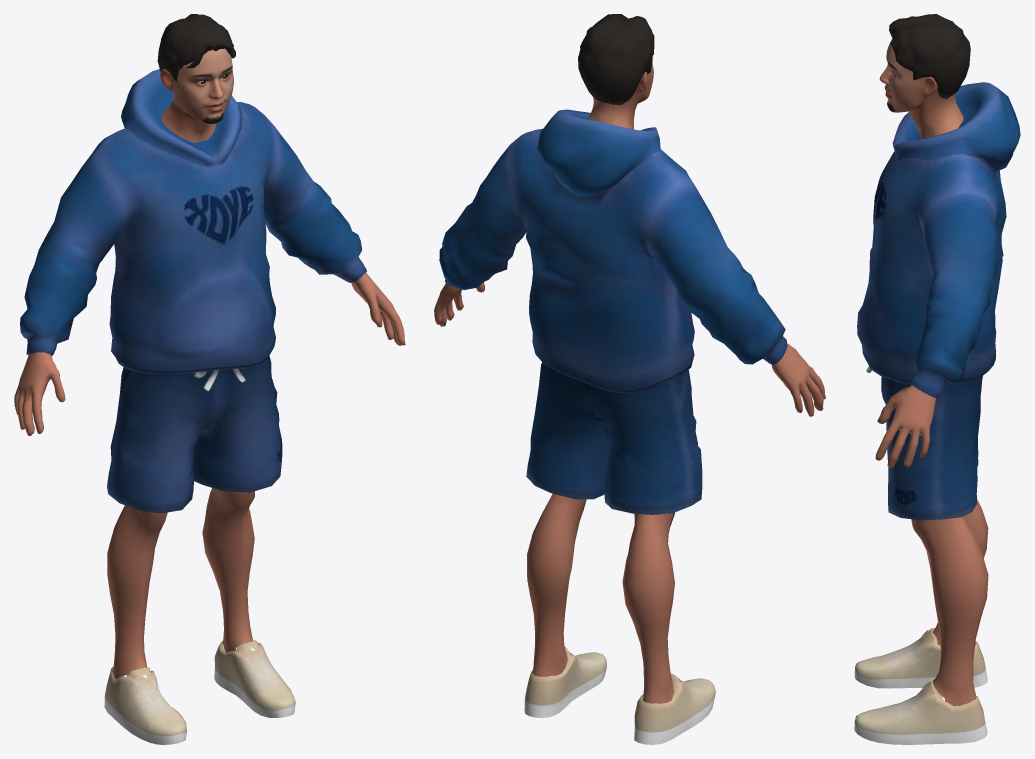
File: joseluislibrito.glb
3 views of the same model, side by side, from view 1: azimuth 30°, elevation 25°; view 2: azimuth 150°, elevation 25°; view 3: azimuth 270°, elevation 25° (orthographic).
Parts seen in each view (by area): view 1: Wolf3D_Outfit_Top, Wolf3D_Outfit_Bottom, Wolf3D_Body, Wolf3D_Outfit_Footwear, Wolf3D_Head, Wolf3D_Hair; view 2: Wolf3D_Outfit_Top, Wolf3D_Outfit_Bottom, Wolf3D_Body, Wolf3D_Outfit_Footwear, Wolf3D_Hair, Wolf3D_Head; view 3: Wolf3D_Outfit_Top, Wolf3D_Body, Wolf3D_Outfit_Bottom, Wolf3D_Outfit_Footwear, Wolf3D_Hair, Wolf3D_Head.
Part boxes in pixels (x1,y1,x2,y2): Wolf3D_Outfit_Top: (20, 69, 366, 373); Wolf3D_Outfit_Bottom: (107, 356, 282, 513); Wolf3D_Body: (14, 273, 405, 679); Wolf3D_Outfit_Footwear: (104, 640, 295, 744); Wolf3D_Head: (160, 48, 233, 142); Wolf3D_Hair: (157, 14, 235, 81); Wolf3D_Outfit_Top: (439, 109, 787, 393); Wolf3D_Outfit_Bottom: (526, 362, 702, 514); Wolf3D_Body: (434, 282, 825, 703); Wolf3D_Outfit_Footwear: (524, 647, 715, 744); Wolf3D_Hair: (578, 14, 654, 105); Wolf3D_Head: (587, 62, 653, 129); Wolf3D_Outfit_Top: (857, 82, 1020, 398); Wolf3D_Body: (875, 385, 988, 706); Wolf3D_Outfit_Bottom: (866, 366, 982, 520); Wolf3D_Outfit_Footwear: (854, 628, 987, 744); Wolf3D_Hair: (889, 14, 970, 98); Wolf3D_Head: (879, 39, 963, 138).
Bounding box in the file's own units: 1.06 × 1.85 × 0.4038.
8 materials, 8 textured.
